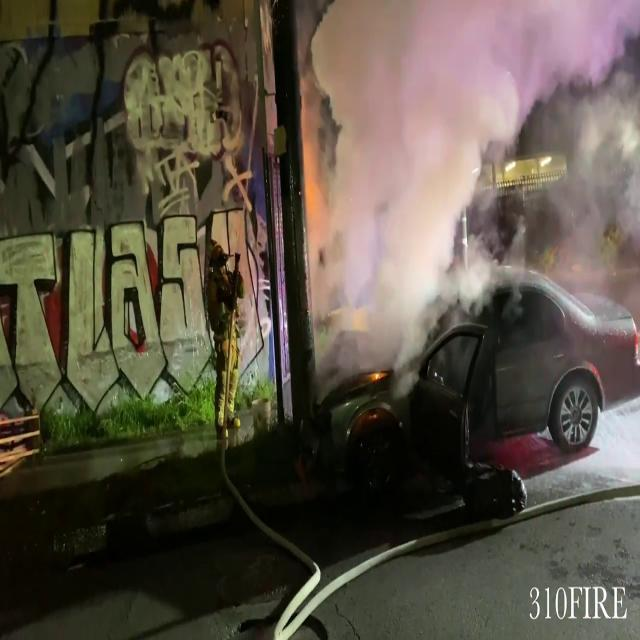Smoke: (308, 0, 640, 370)
